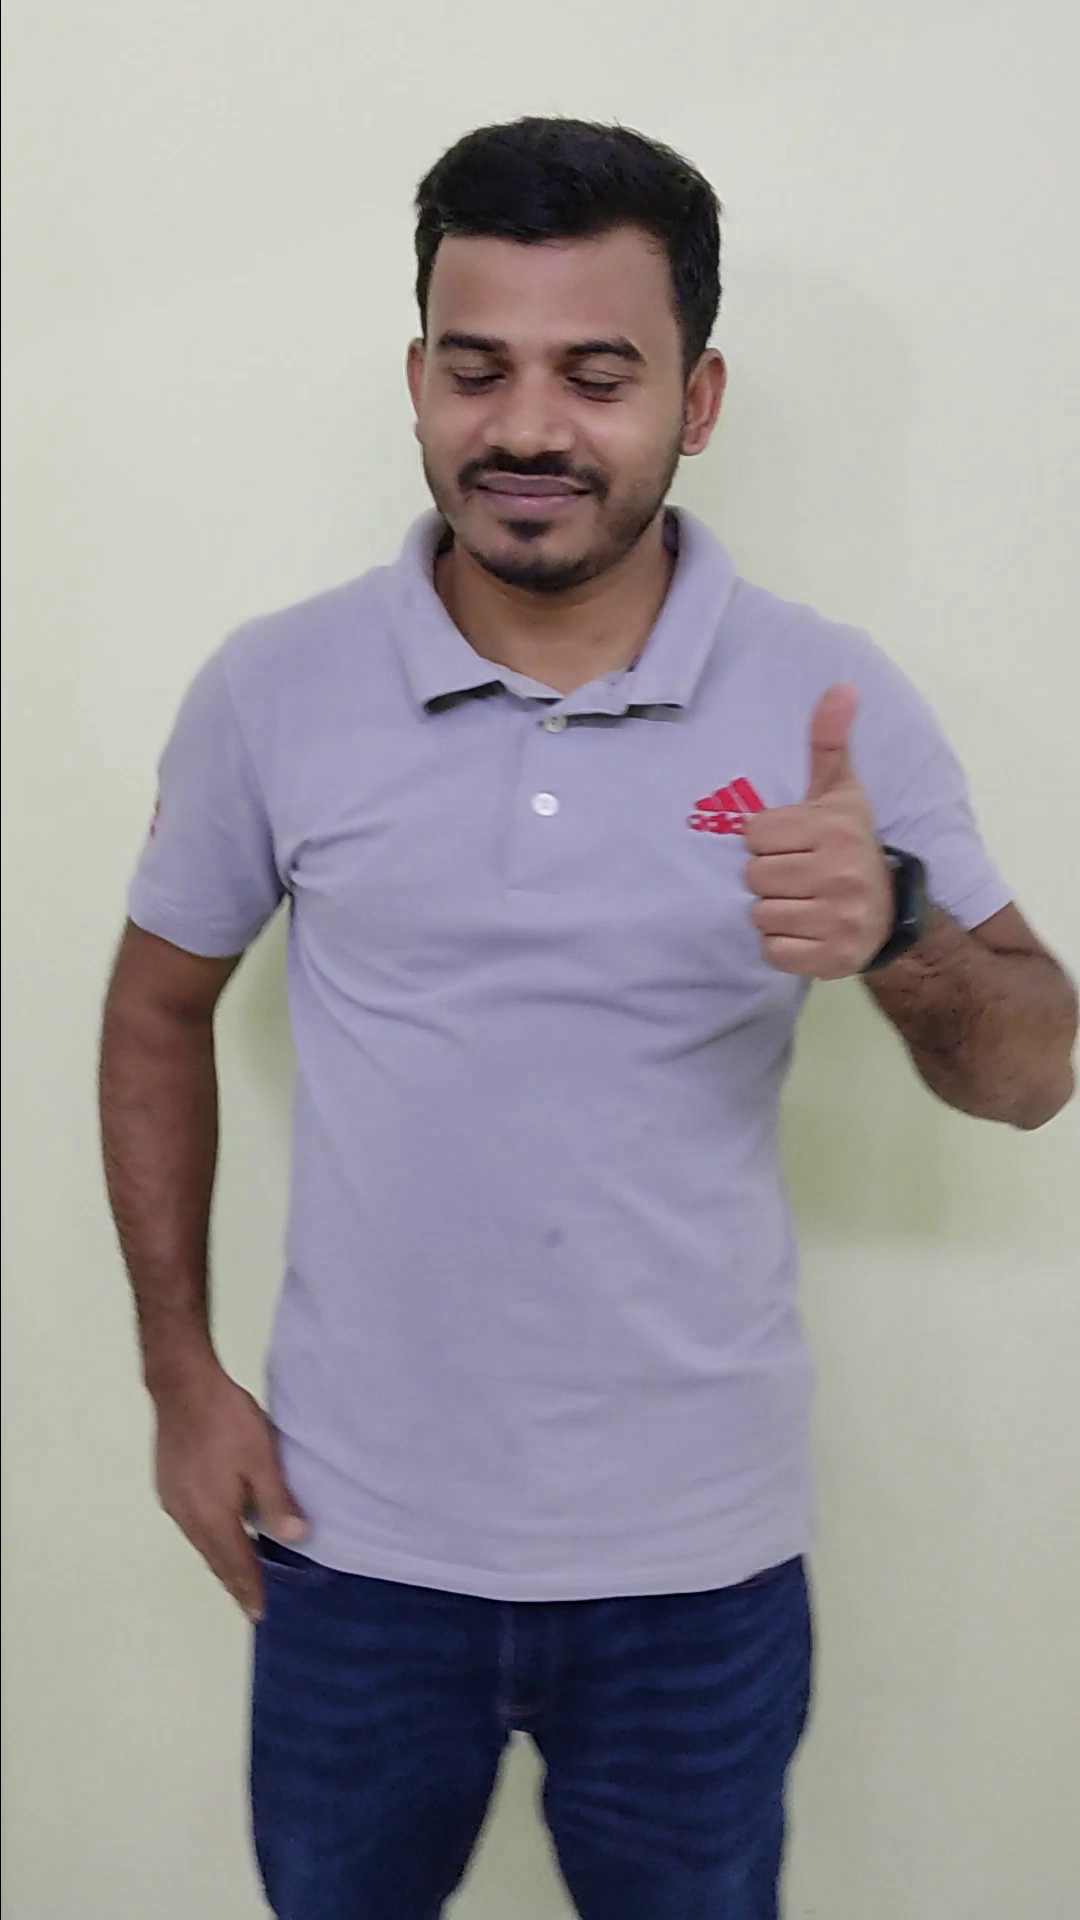Like: (702, 663, 920, 992)
None: (128, 1340, 331, 1634)
